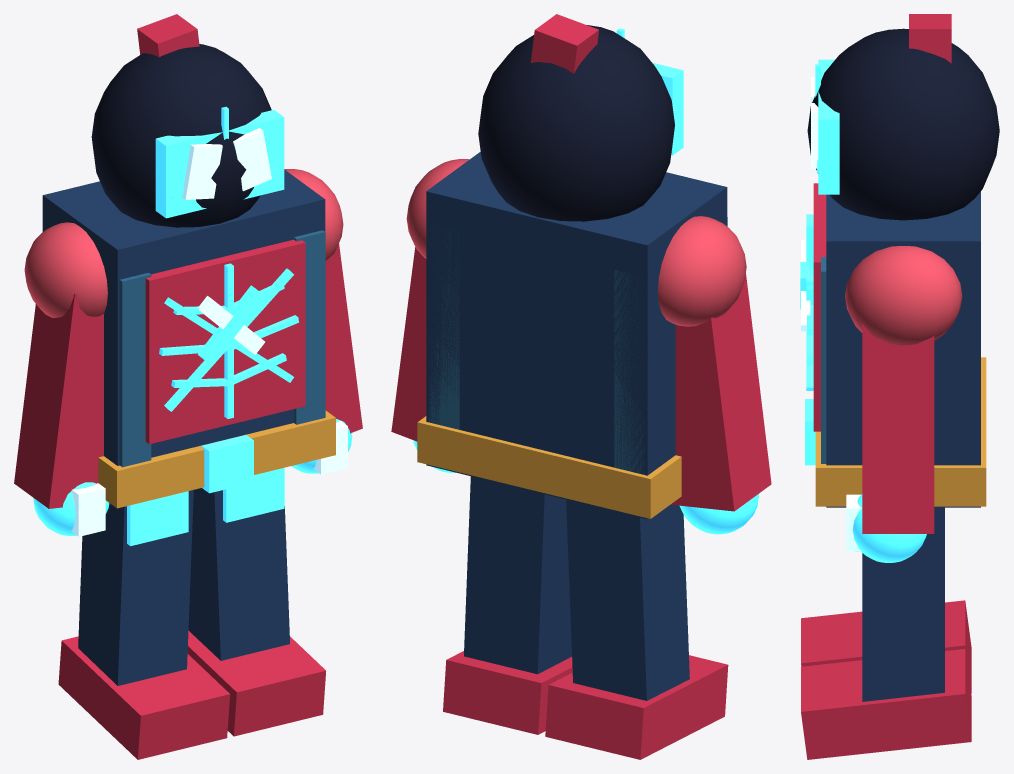
File: web_runner.glb
The picture shows the model from 3 angles, left to right: view 1: azimuth 30°, elevation 25°; view 2: azimuth 150°, elevation 25°; view 3: azimuth 270°, elevation 25°; orthographic projection. The views are drawn at different scales.
Visible parts, largest first — view 1: Chest Crimson Plate, Helmet, Torso, Left Leg, Left Arm, Right Leg, Left Boot, Right Boot, Gold Utility Belt, Left Shoulder, Left Blue Side Panel, Cyan Visor (+17 smaller); view 2: Torso, Helmet, Left Leg, Right Leg, Left Arm, Gold Utility Belt, Left Boot, Left Shoulder, Right Boot, Right Arm, Left Blue Side Panel, Right Blue Side Panel (+4 smaller); view 3: Helmet, Torso, Right Arm, Right Boot, Right Leg, Right Shoulder, Gold Utility Belt, Left Boot, Chest Crimson Plate, Cyan Visor, Right Glove, Helmet Crest (+6 smaller).
Part boxes in pixels (box(x1,y1,x2,y2)): Chest Crimson Plate: box(145, 239, 305, 444); Helmet: box(91, 44, 271, 227); Torso: box(42, 169, 325, 465); Left Leg: box(78, 490, 193, 685); Left Arm: box(14, 293, 103, 508); Right Leg: box(188, 488, 289, 660); Left Boot: box(58, 636, 230, 759); Right Boot: box(187, 630, 325, 736); Gold Utility Belt: box(98, 410, 335, 508); Left Shoulder: box(24, 222, 107, 317); Left Blue Side Panel: box(119, 272, 151, 467); Cyan Visor: box(155, 109, 284, 218); Torso: box(426, 152, 727, 519); Helmet: box(478, 25, 674, 221); Left Leg: box(566, 499, 689, 700); Right Leg: box(464, 476, 571, 674); Left Arm: box(671, 273, 771, 511); Gold Utility Belt: box(417, 416, 681, 518); Left Boot: box(545, 655, 728, 759); Left Shoulder: box(657, 216, 746, 326); Right Boot: box(443, 651, 572, 734); Right Arm: box(391, 247, 426, 441); Left Blue Side Panel: box(614, 217, 727, 474); Right Blue Side Panel: box(429, 230, 459, 429); Helmet: box(807, 28, 999, 220); Torso: box(826, 191, 980, 507); Right Arm: box(862, 324, 934, 533); Right Boot: box(801, 649, 971, 759); Right Leg: box(862, 507, 944, 701); Right Shoulder: box(845, 246, 962, 345); Gold Utility Belt: box(815, 357, 986, 506); Left Boot: box(801, 600, 971, 693); Chest Crimson Plate: box(813, 183, 826, 431); Cyan Visor: box(818, 59, 839, 194); Right Glove: box(852, 494, 926, 562); Helmet Crest: box(909, 14, 951, 63).
Bounding box in the file's own units: 2.85 × 5.72 × 1.5.
